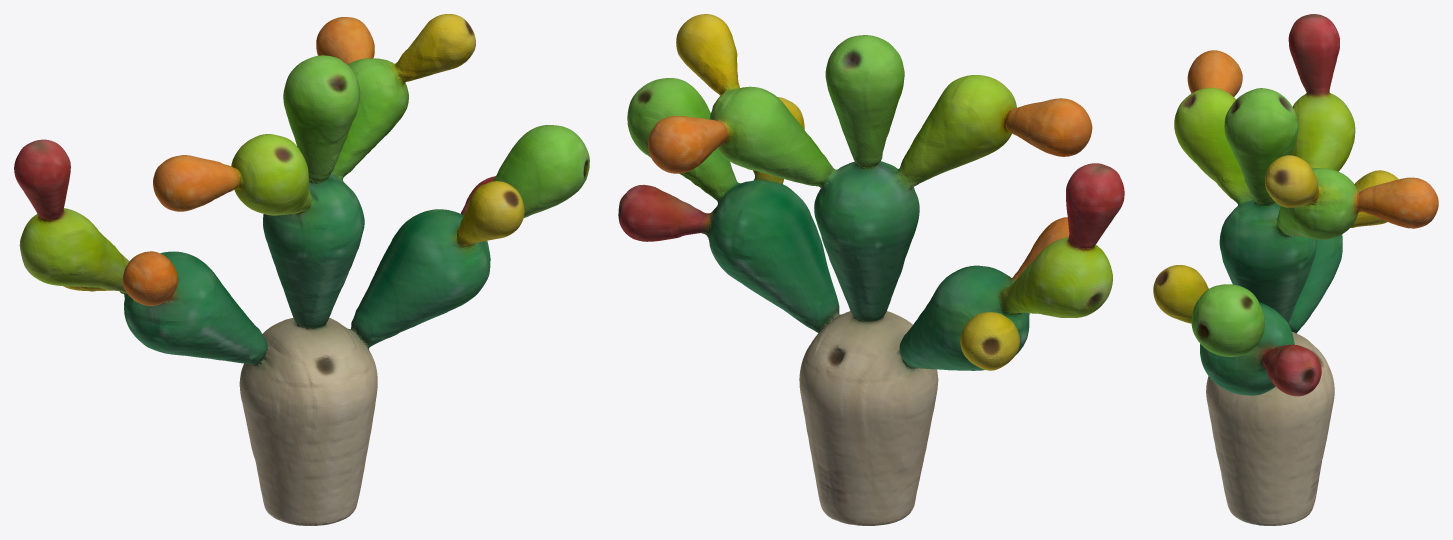
The picture shows the model from 3 angles, left to right: view 1: azimuth 30°, elevation 25°; view 2: azimuth 150°, elevation 25°; view 3: azimuth 270°, elevation 25°; orthographic projection. The views are drawn at different scales.
Visible parts, largest first — view 1: world; view 2: world; view 3: world.
Boxes of the visible parts, x1,y1,x2,y2 form: world: [14, 14, 589, 525]; world: [618, 14, 1124, 525]; world: [1153, 14, 1438, 525].
Size of the model in its own units: 1.8 by 1.49 by 0.9146.
